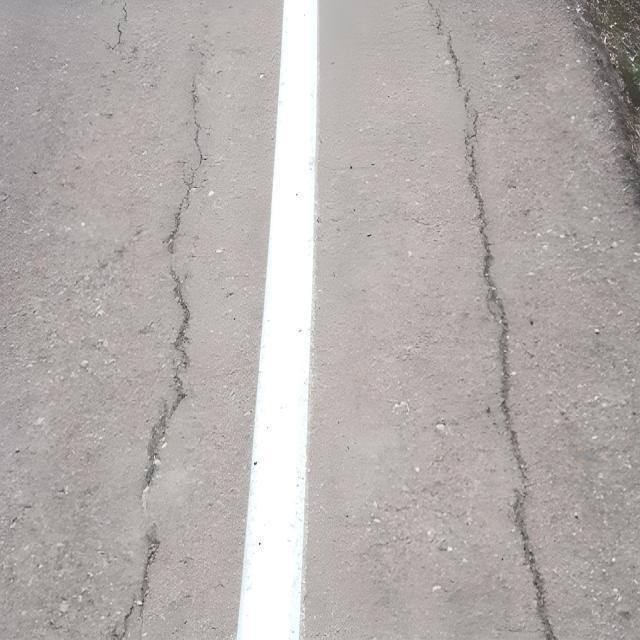minor crack: (265, 6, 432, 624), (551, 15, 638, 632)
moderate crack: (119, 49, 207, 640), (4, 498, 40, 560), (108, 236, 137, 261), (390, 398, 410, 417), (406, 213, 434, 226), (47, 616, 64, 632), (138, 320, 155, 334), (437, 538, 450, 550), (507, 625, 524, 632), (8, 515, 17, 526), (128, 44, 137, 54), (99, 110, 113, 116), (0, 192, 8, 201), (56, 485, 65, 492), (215, 68, 223, 74)
severe crack: (116, 522, 161, 638), (144, 526, 160, 554), (172, 387, 186, 404), (175, 158, 191, 167), (301, 586, 306, 608)
